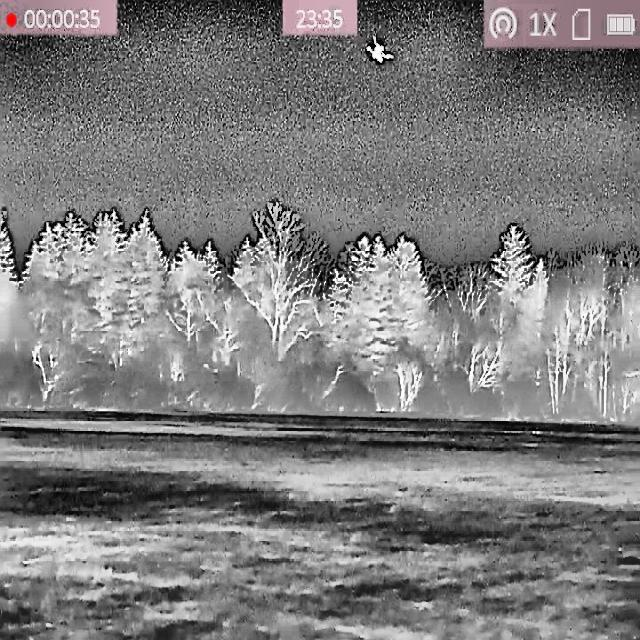drone: (367, 35, 392, 63)
